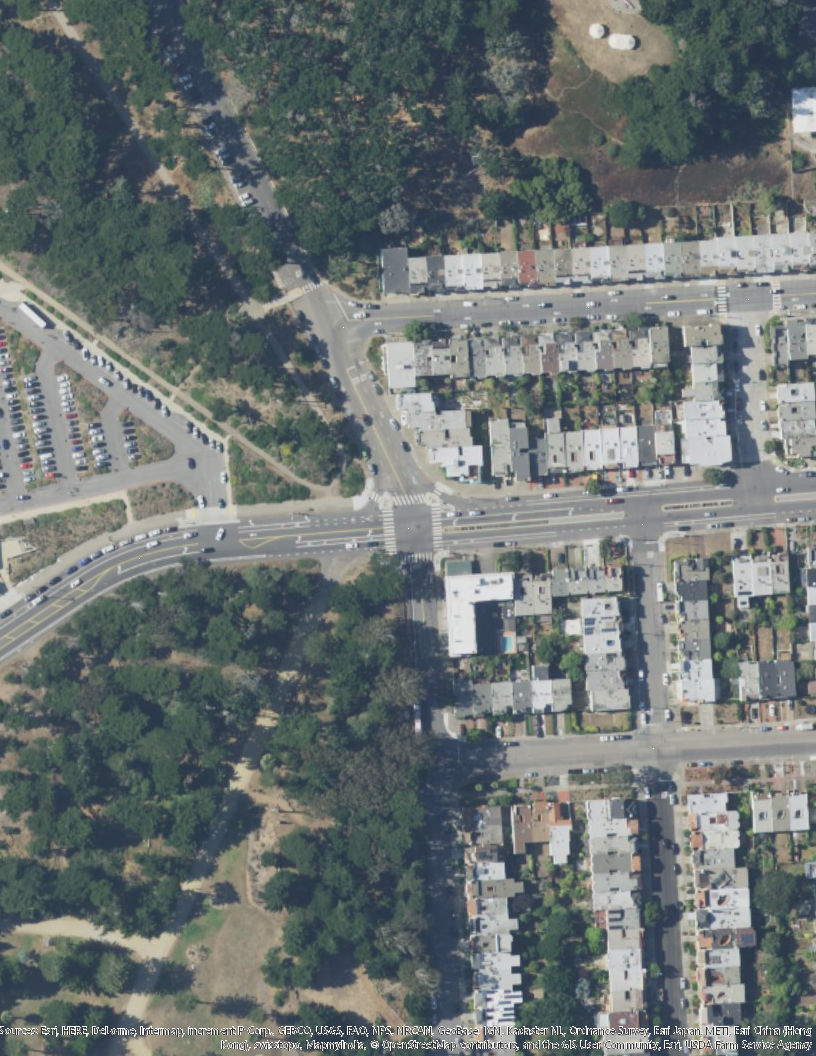zebracross: (382, 509, 398, 553), (429, 506, 444, 551), (398, 552, 432, 565), (716, 285, 728, 312), (392, 496, 427, 505), (771, 282, 782, 310), (370, 492, 379, 503), (434, 487, 441, 496)
